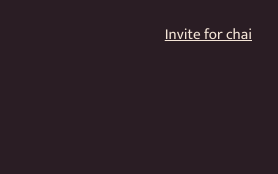
Test case: Chai pe bulao: pick a friend, the invite names this bench, and "Invite sent" is all it ever says
The image size is (278, 174).
Click the button "Invite for chai": (208, 34) [151,12,266,56]
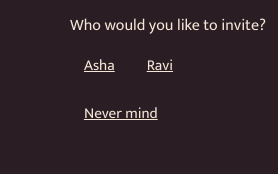
Now the text "Who would you like to invite?" is shown, box [70,12,266,39]
Click the button "Asha": (99, 65) [70,43,129,87]
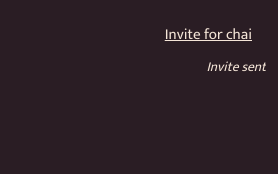
Now the message with class "chai-note" reads "Invite sent", box [206,56,266,78]
Click the button "Invite for chai": (208, 34) [151,12,266,56]
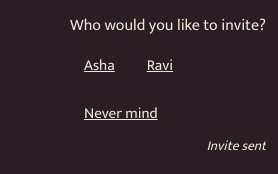
Click the button "Ravi": (160, 65) [133,43,187,87]
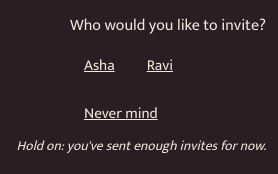
Now the message with class "chai-note" reads "Hold on: you've sent enough invites for now.", box [17,135,266,157]
